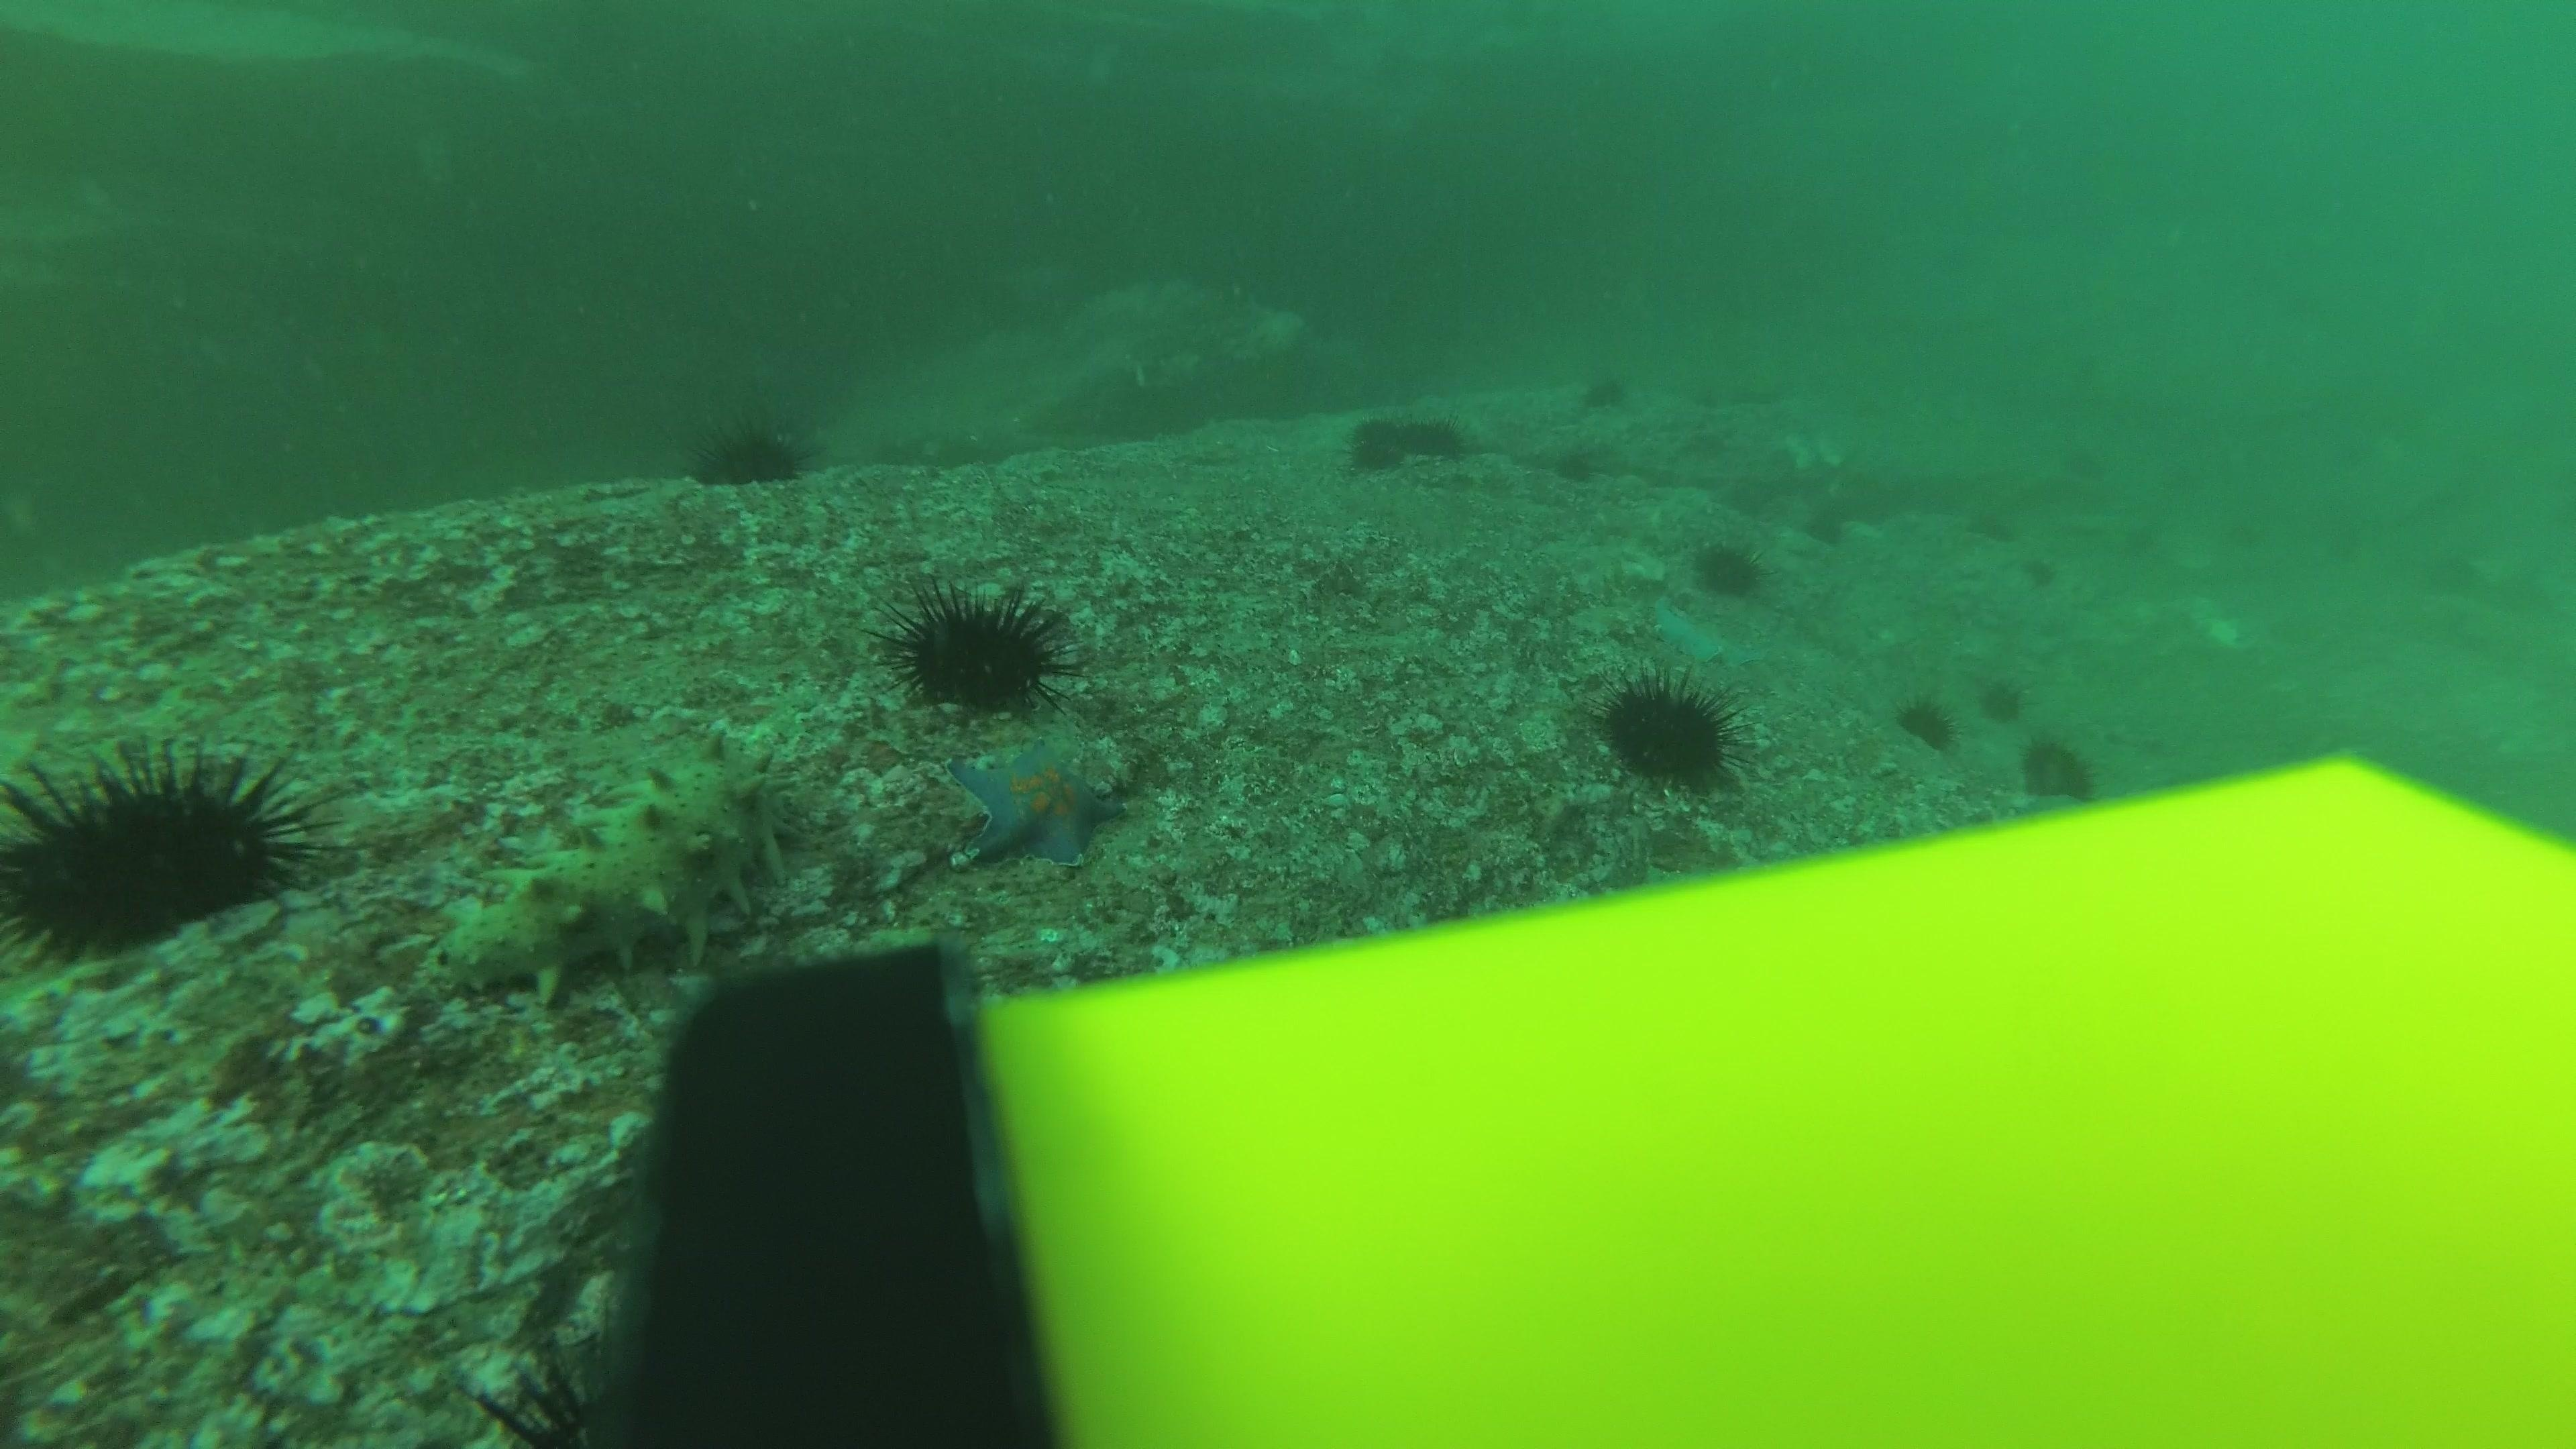echinus: (2, 732, 322, 964), (885, 580, 1067, 717), (1598, 669, 1741, 793), (695, 414, 807, 490), (2019, 731, 2100, 805), (1690, 533, 1767, 600), (1895, 690, 1957, 750), (2019, 552, 2068, 605), (1415, 414, 1474, 458), (1969, 511, 2019, 563), (1978, 674, 2026, 727), (1801, 502, 1849, 554), (1552, 441, 1605, 487), (1578, 366, 1629, 412), (1345, 439, 1405, 476), (1378, 416, 1438, 453), (1346, 409, 1407, 444)
holothurian: (437, 741, 807, 1001)
starfish: (941, 738, 1123, 870), (1645, 596, 1736, 667)
